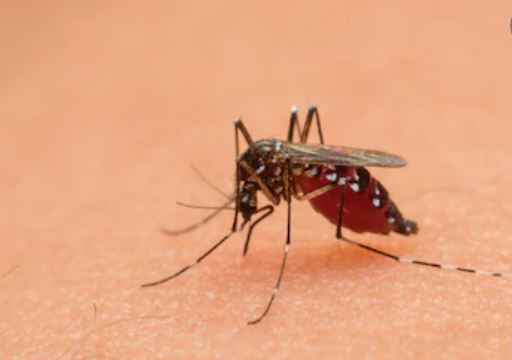dengue_mosquito: (173, 103, 420, 266)
